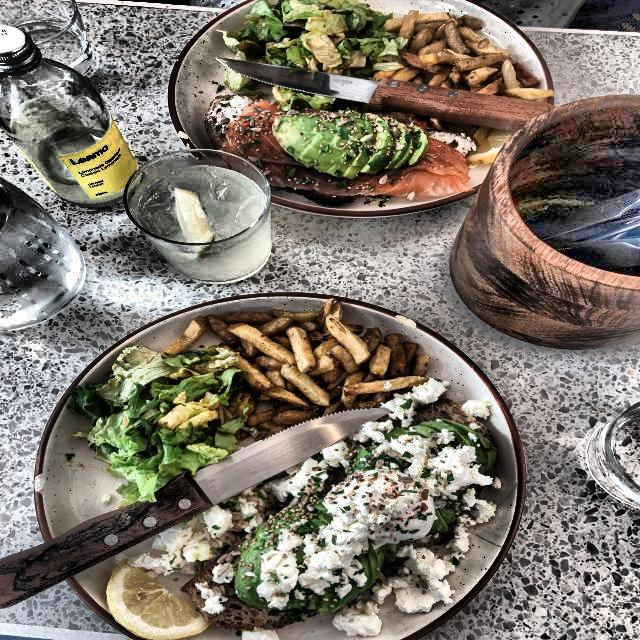knife: (0, 401, 395, 608)
